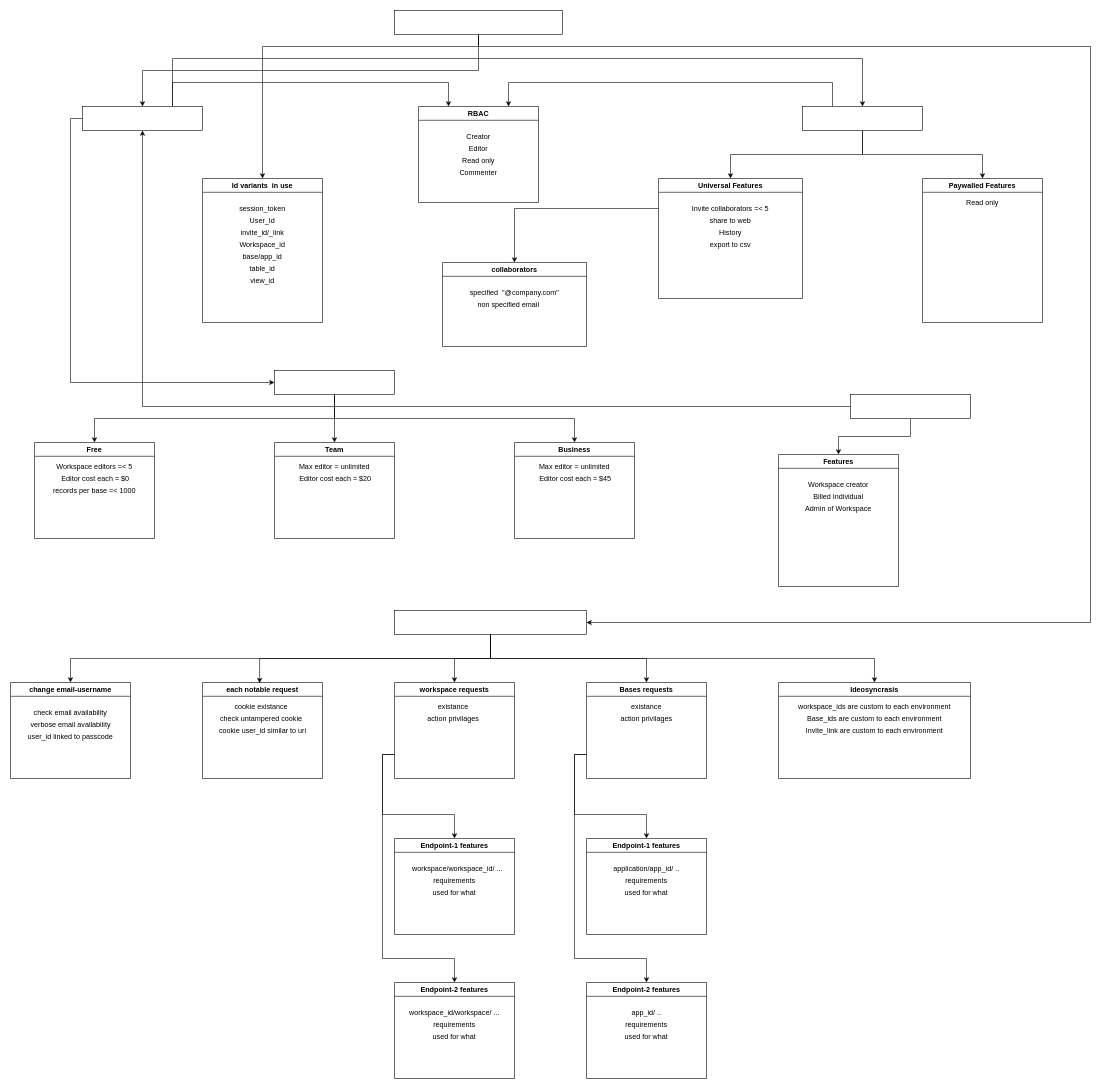
The diagram is 1106 pixels wide and 1089 high, and some of its shapes have lost their labels. The centre of each missing label's shape, as x and y in pixels:
APIs: the point at 490,622
Bases: the point at 862,118
staging.airtable.com: the point at 478,22
Subscription Tiers: the point at 334,382
TENANT: the point at 910,406
Workspace: the point at 142,118
